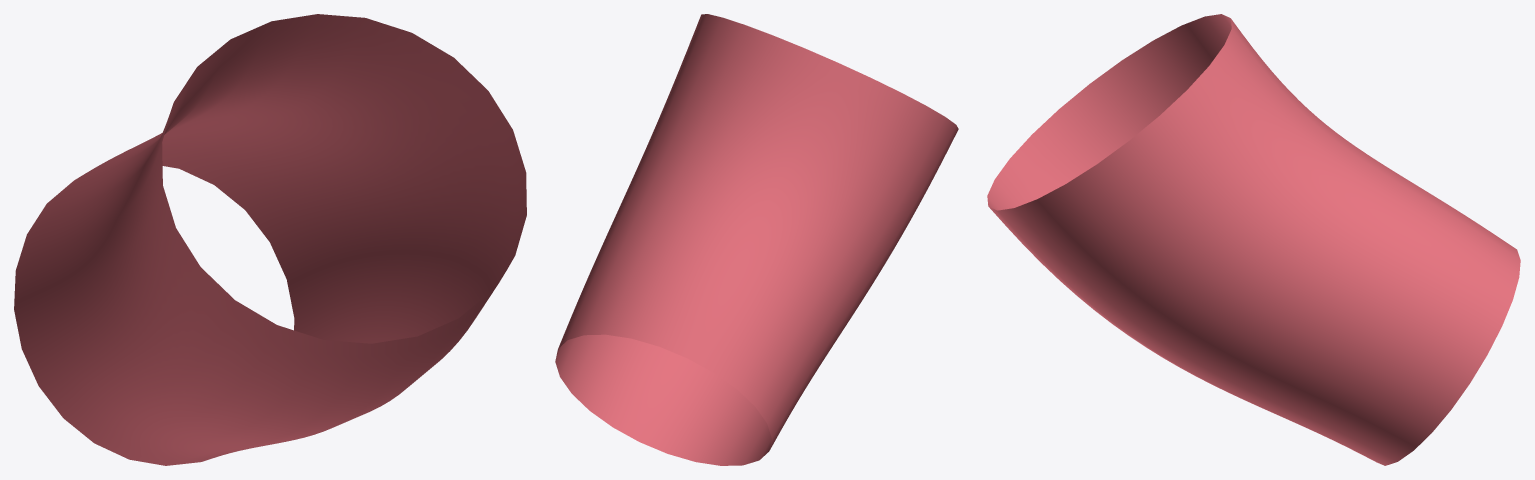
3 renders of one model, left to right at view 1: azimuth 30°, elevation 25°; view 2: azimuth 150°, elevation 25°; view 3: azimuth 270°, elevation 25°, orthographic. The views are drawn at different scales.
Parts seen in each view (by area): view 1: ZA_6aacb3a48d71d383; view 2: ZA_6aacb3a48d71d383; view 3: ZA_6aacb3a48d71d383.
Boxes of the visible parts, x1,y1,x2,y2 form: ZA_6aacb3a48d71d383: (14,14,526,465); ZA_6aacb3a48d71d383: (555,14,958,465); ZA_6aacb3a48d71d383: (987,14,1520,465).
Size of the model in its own units: 0.00583 by 0.00858 by 0.00996.
